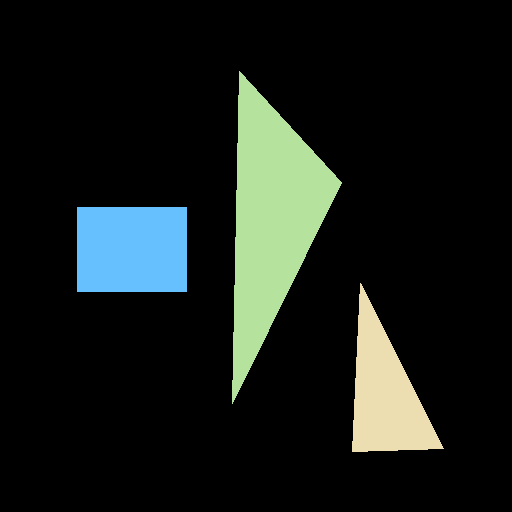rectangle: (77, 207, 186, 291)
triangle: (232, 71, 341, 403), (352, 283, 443, 451)
